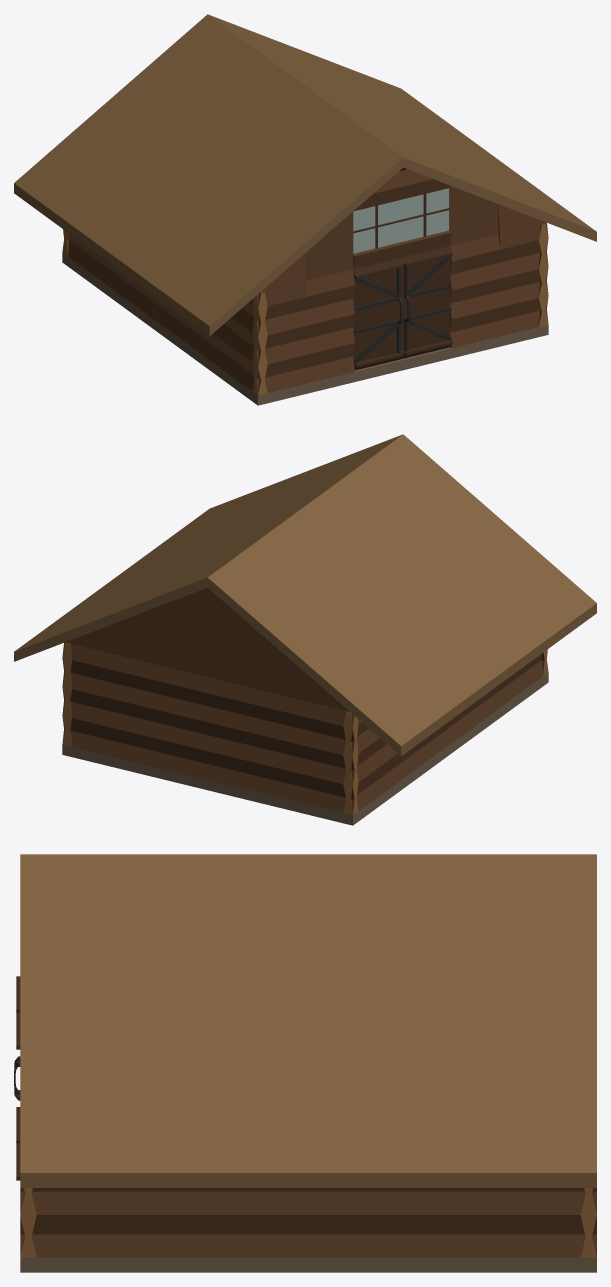
The model's file is casa 8.fbx.
3 renders of one model, top to bottom at view 1: azimuth 30°, elevation 25°; view 2: azimuth 150°, elevation 25°; view 3: azimuth 270°, elevation 25°, orthographic. The views are drawn at different scales.
Visible parts, largest first — view 1: Cube.038; view 2: Cube.038; view 3: Cube.038.
Boxes of the visible parts, x1=… form: Cube.038: x1=14, y1=14, x2=596, y2=405; Cube.038: x1=14, y1=434, x2=596, y2=825; Cube.038: x1=14, y1=854, x2=596, y2=1272.
Size of the model in its own units: 1600 by 840 by 1415.
